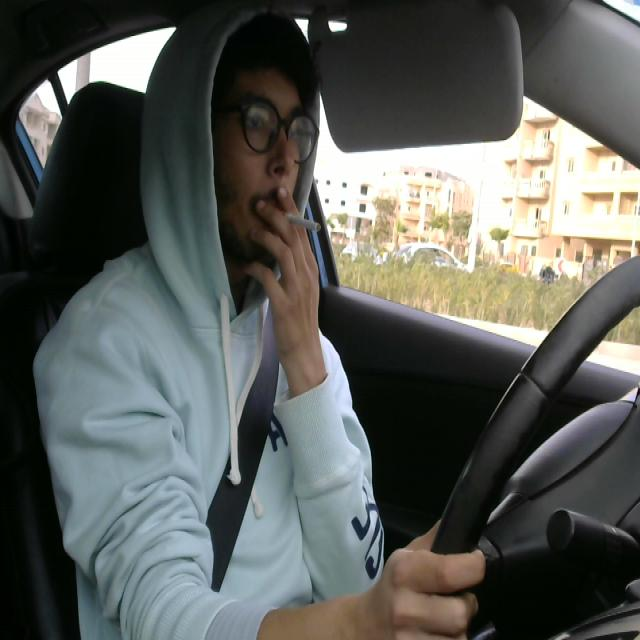smoking: (266, 202, 322, 235)
